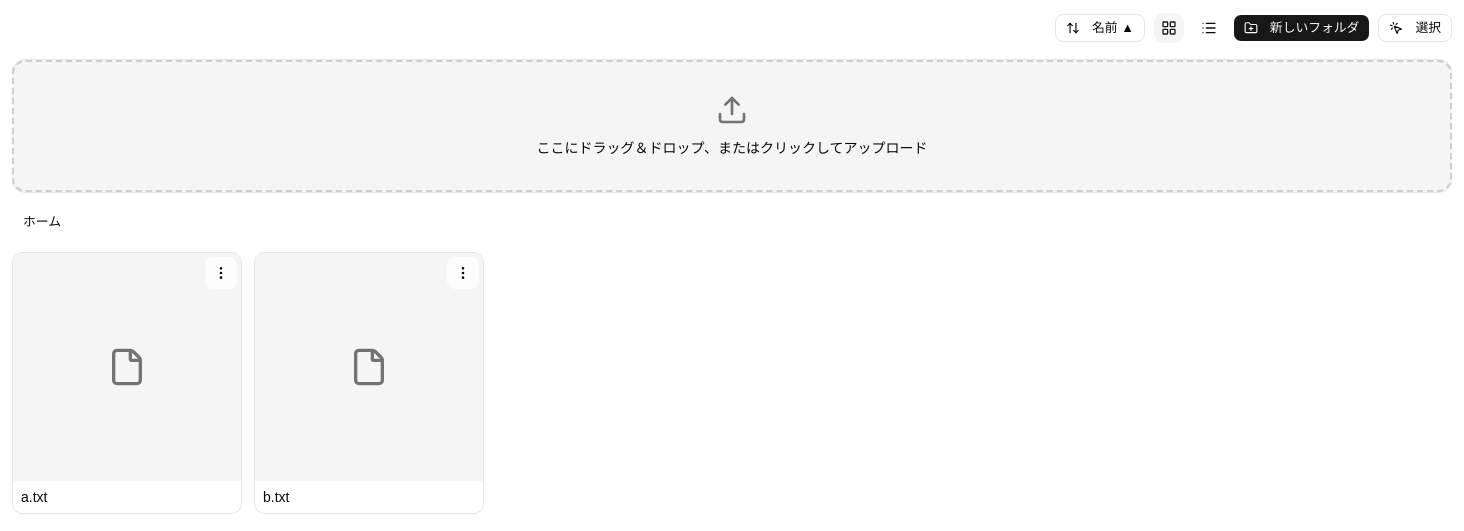
Test: FileBrowser › 複数選択・一括操作 › チェックボックスで選択すると件数が増え、全選択チェックボックスで全件選択・解除できる
This screenshot has width=1464, height=531.
Expected: the text "a.txt" is shown, [21,489,48,505]
Click the button "選択". click: click(1415, 28)
box: [1378,14,1452,42]
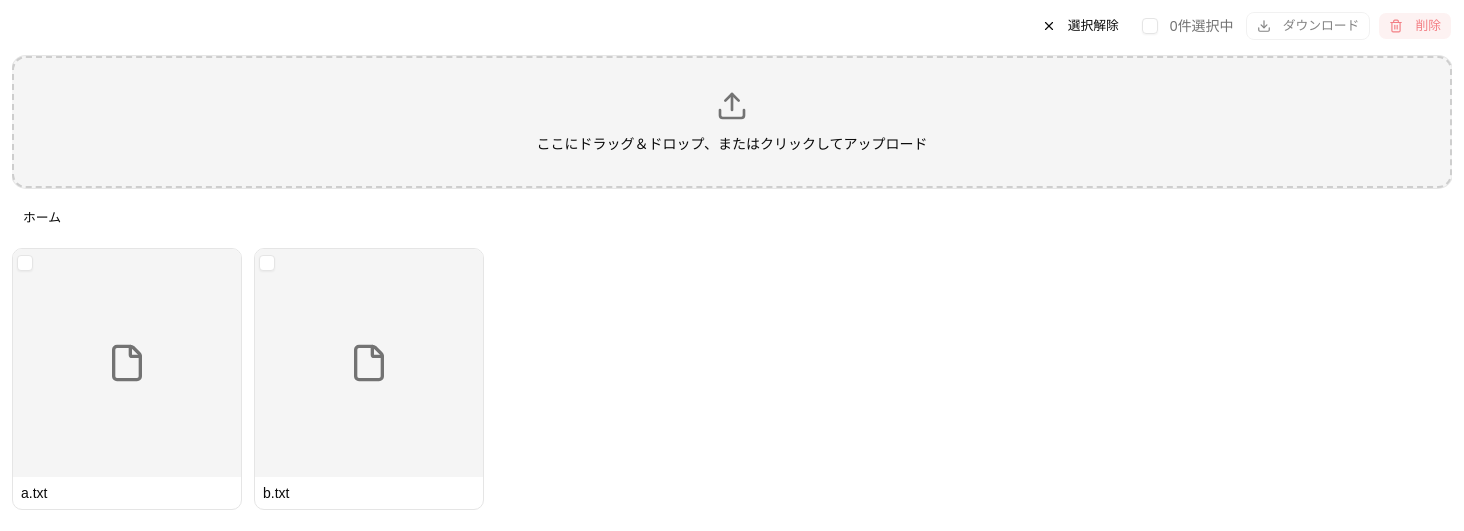
Click the checkbox named "a.txt を選択". click: click(25, 263)
box: [17,255,33,271]
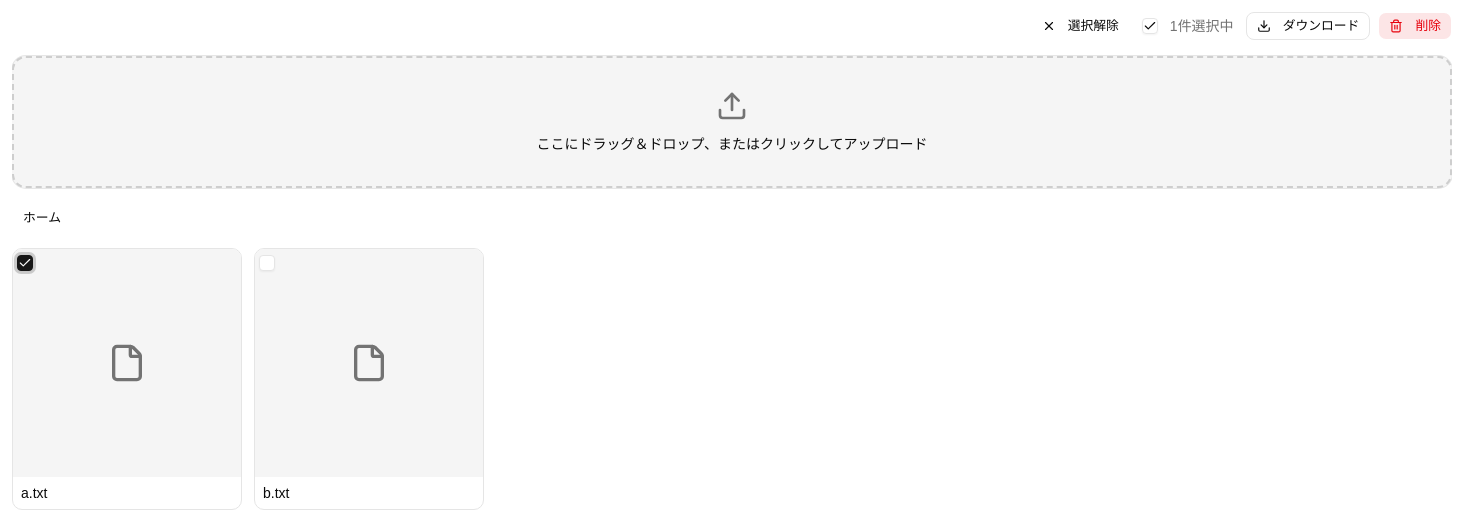
Now the text "1件選択中" is shown, box [1170,16,1234,36]
Click the checkbox named "全選択". click: click(1150, 26)
box: [1142,18,1158,34]
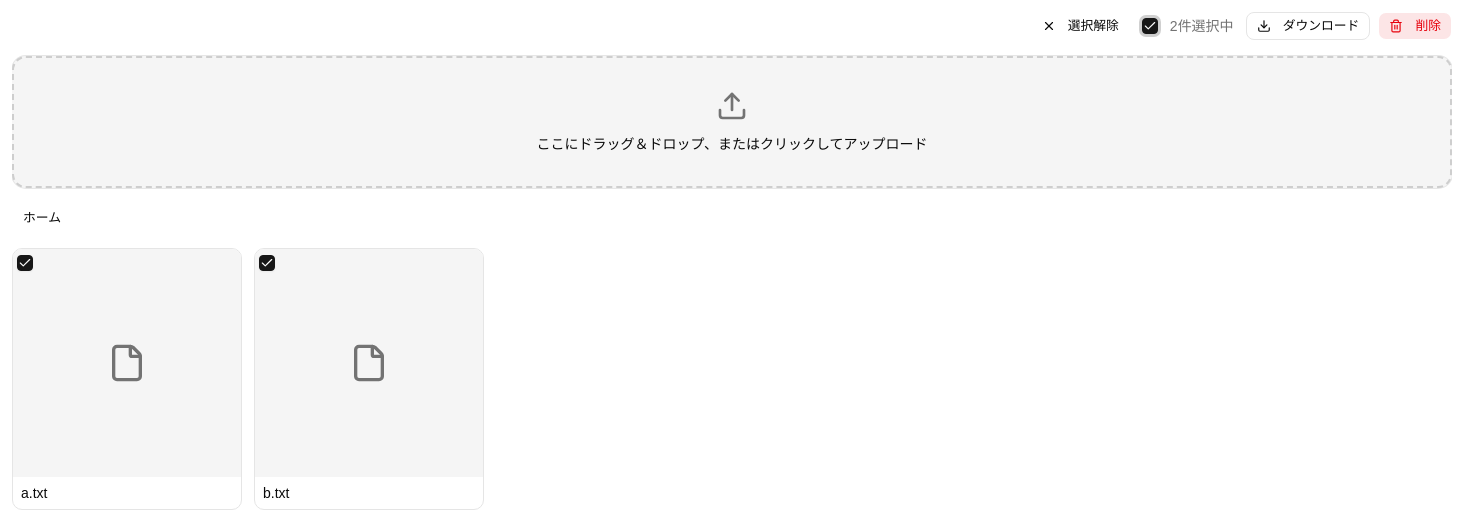
Now the text "2件選択中" is shown, box [1170,16,1234,36]
Click the checkbox named "全選択". click: click(1150, 26)
box: [1142,18,1158,34]
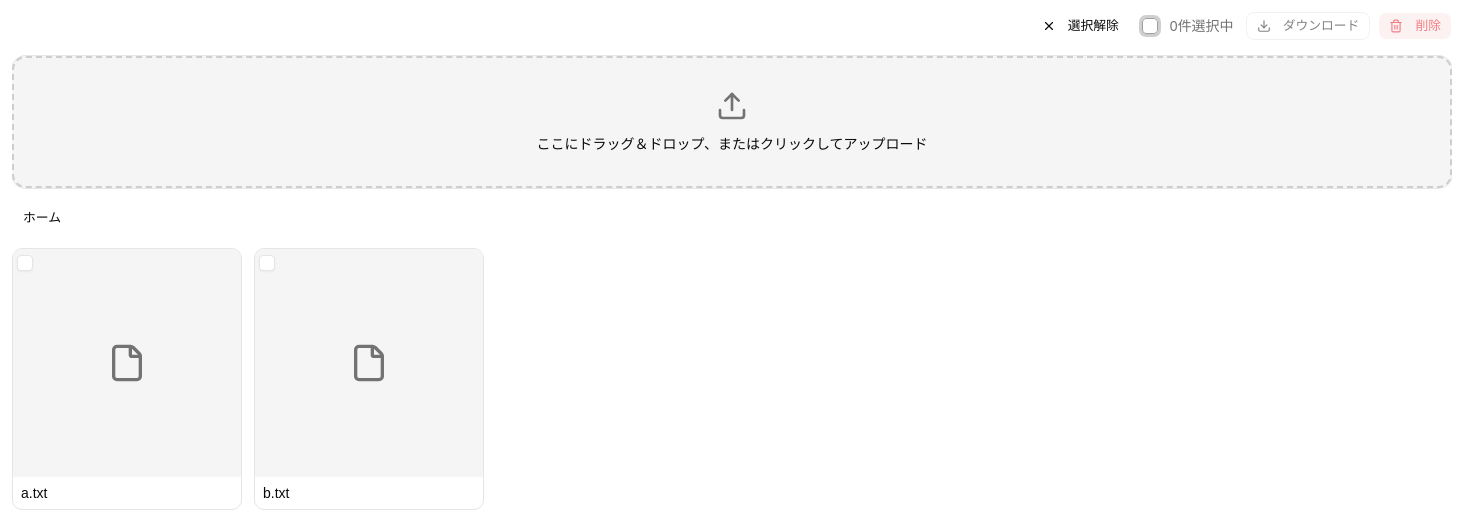
Now the text "0件選択中" is shown, box [1170,16,1234,36]
